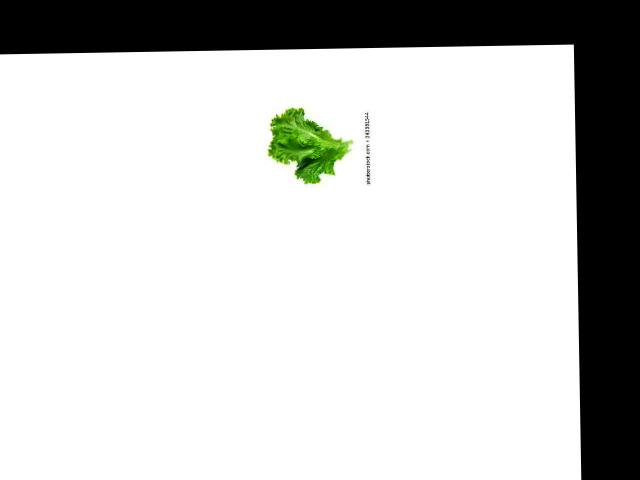lettuce: (265, 107, 359, 186)
